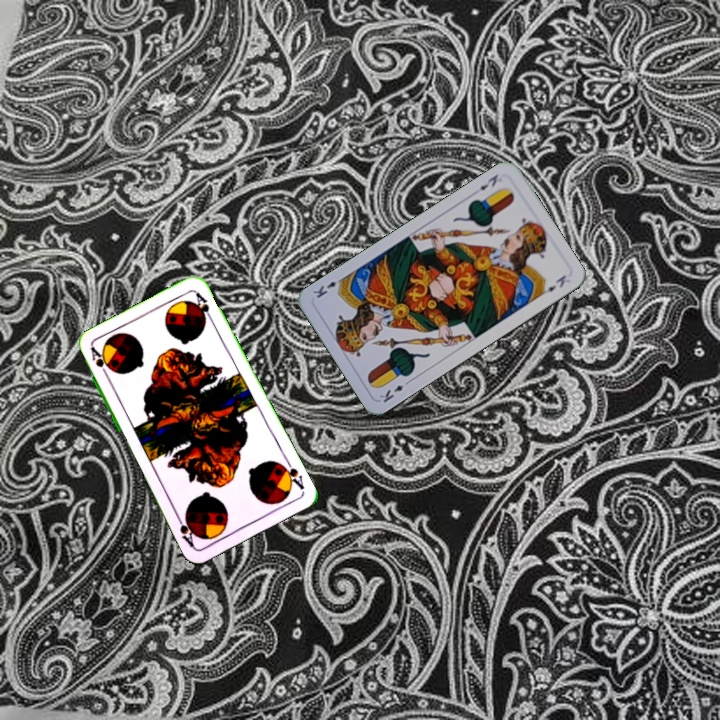EK: (375, 376, 413, 405), (475, 170, 501, 193)
SA: (275, 454, 307, 492), (87, 343, 112, 382)
